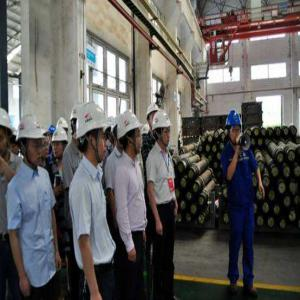blue: (226, 110, 244, 145)
none: (42, 132, 50, 160)
white: (76, 101, 107, 163), (17, 117, 44, 166), (119, 112, 141, 154), (154, 111, 173, 149), (52, 127, 68, 161), (2, 107, 13, 156), (146, 103, 159, 129)
